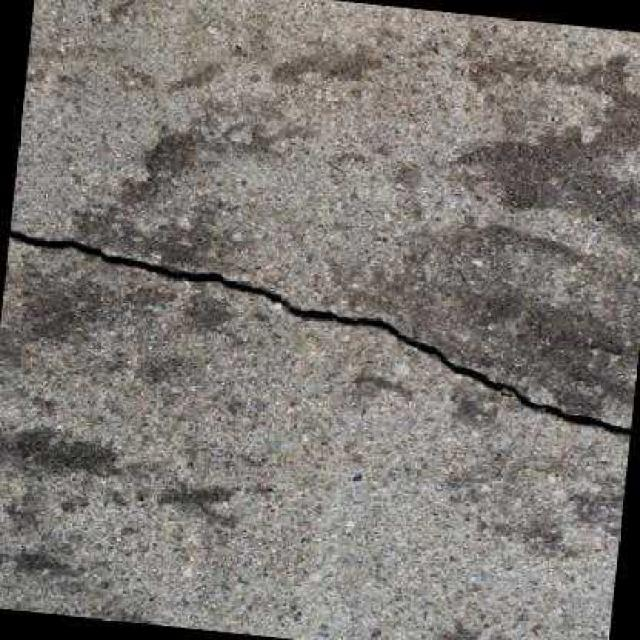D00: (7, 230, 630, 437)
